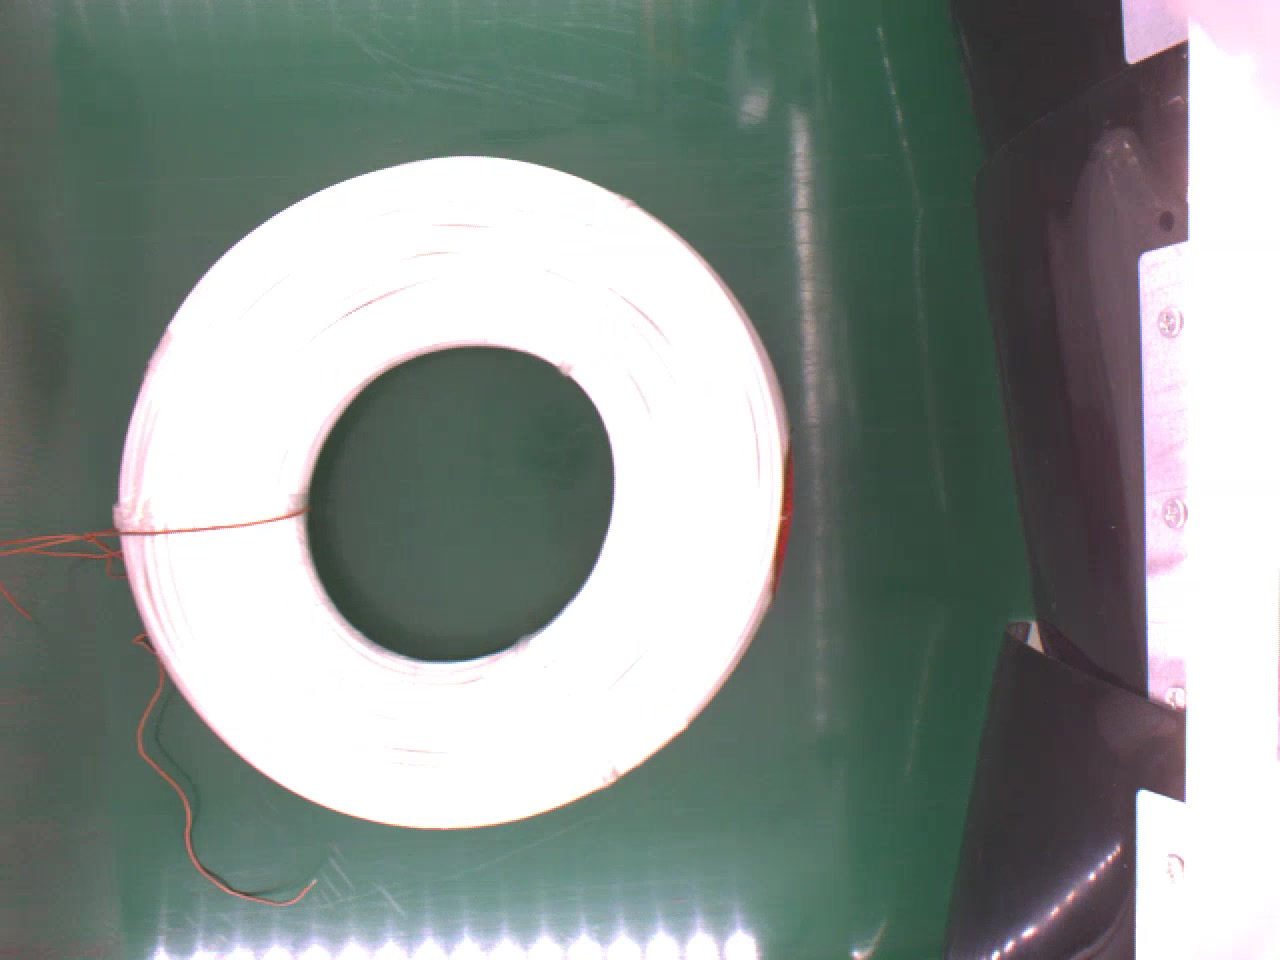white: (119, 157, 797, 828)
